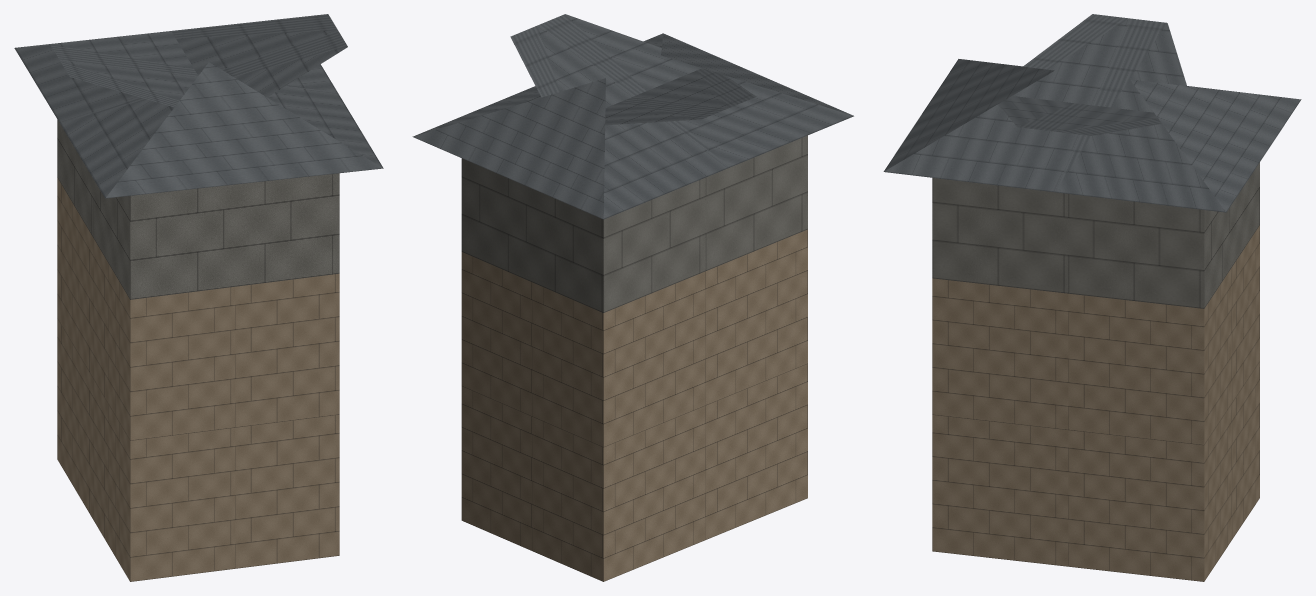
Rendered from bld_c23_46_392.gltf.
3 views of the same model, side by side, from view 1: azimuth 30°, elevation 25°; view 2: azimuth 150°, elevation 25°; view 3: azimuth 270°, elevation 25° (orthographic). The views are drawn at different scales.
Parts seen in each view (by area): view 1: bld_c23_46_392; view 2: bld_c23_46_392; view 3: bld_c23_46_392.
Boxes of the visible parts, x1,y1,x2,y2 form: bld_c23_46_392: (14, 14, 383, 581); bld_c23_46_392: (412, 14, 853, 581); bld_c23_46_392: (883, 14, 1301, 581).
Size of the model in its own units: 5.44 by 7.4 by 6.25.
Materials: 3 (3 with a texture image).
